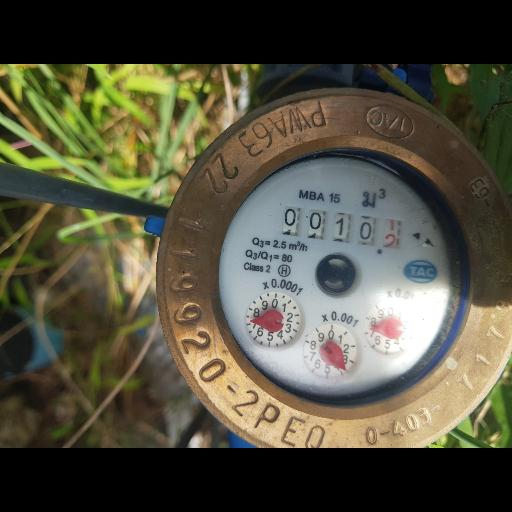0: (281, 206, 302, 237), (306, 210, 327, 241), (356, 215, 377, 246)
1: (381, 218, 403, 250), (332, 213, 353, 244)
border_water_meter_number: (278, 204, 407, 255)
